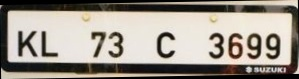character: (16, 28, 39, 57), (155, 30, 177, 59), (245, 31, 264, 61), (39, 29, 59, 57), (264, 30, 282, 60), (207, 30, 224, 60), (89, 30, 106, 59), (107, 30, 124, 59), (226, 31, 243, 59)
